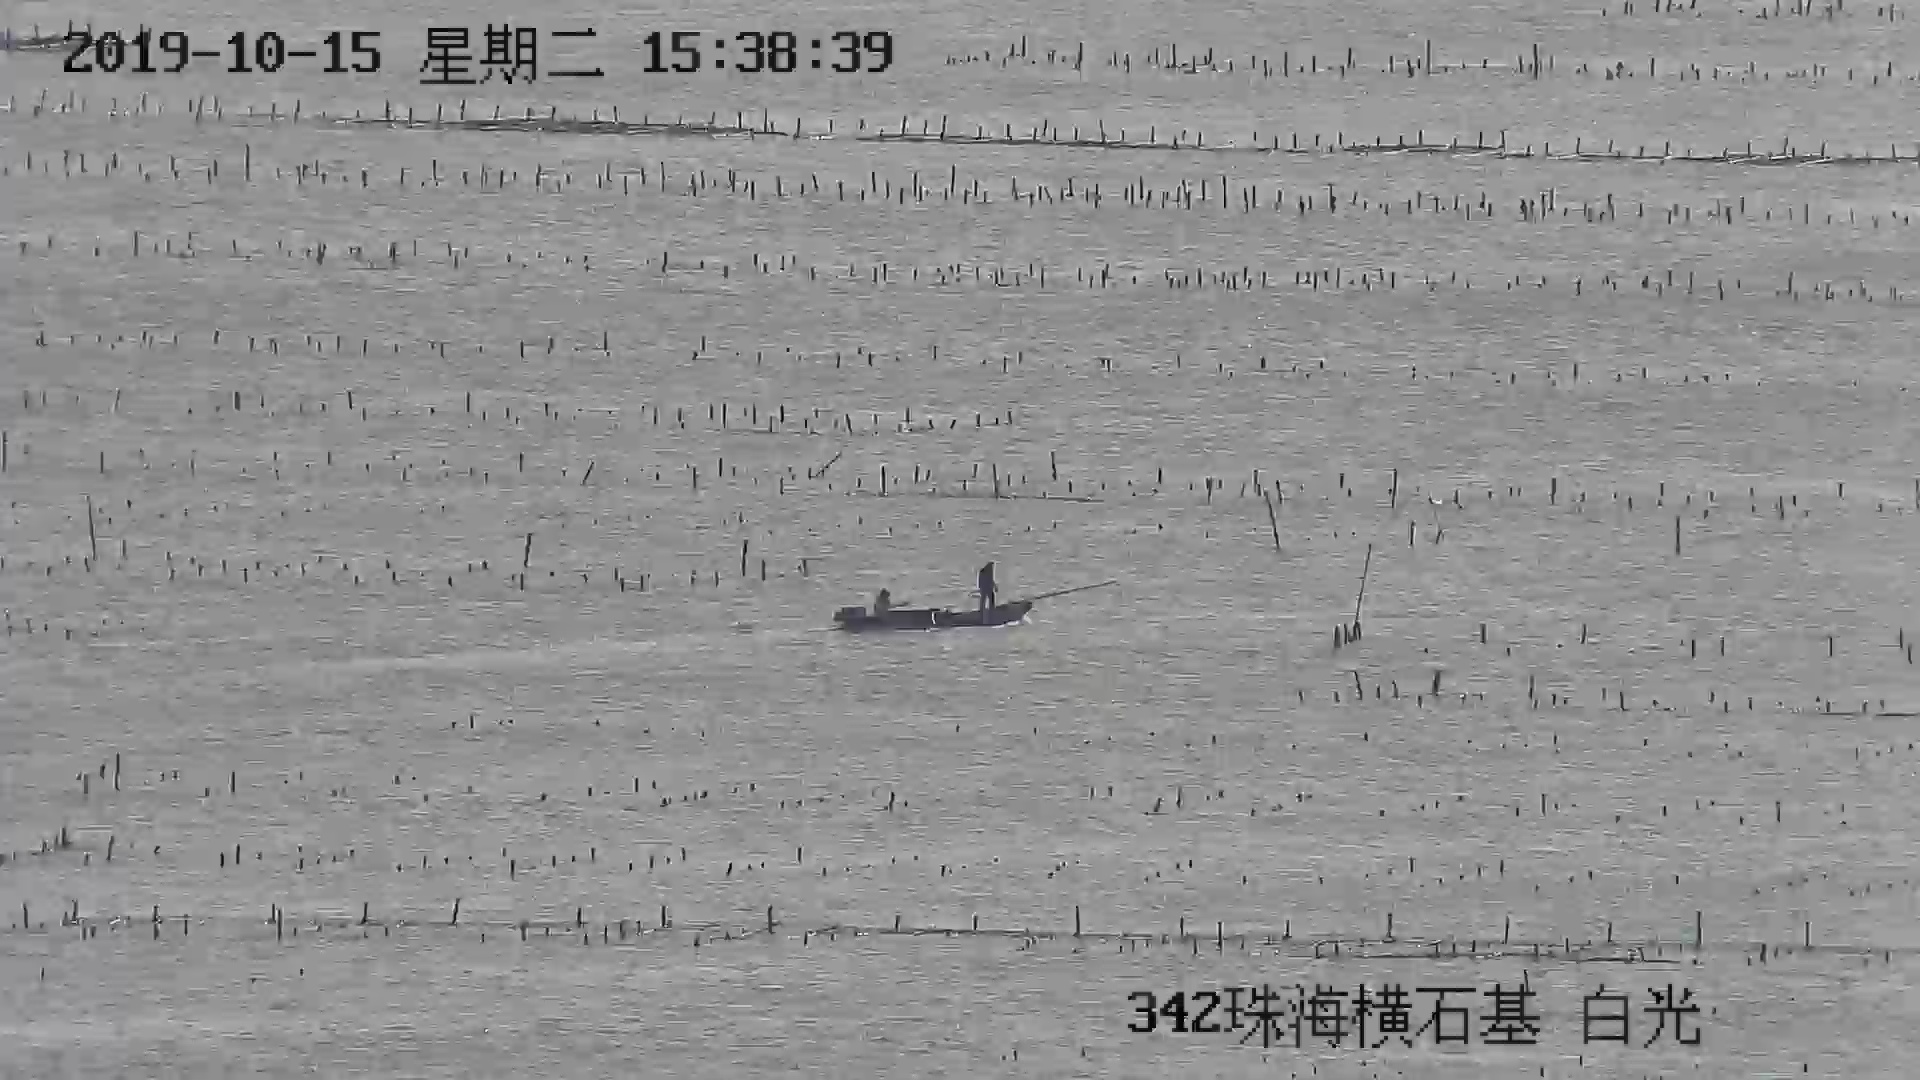ship: (837, 568, 1035, 628)
